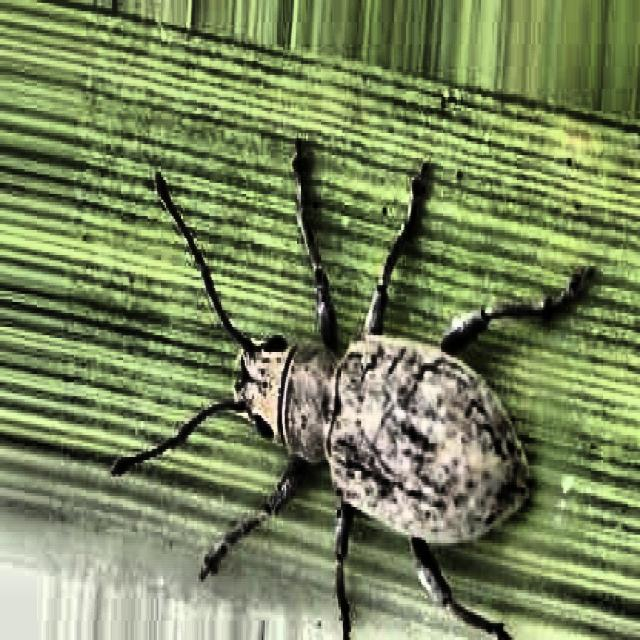Stink bug: (183, 171, 550, 630)
